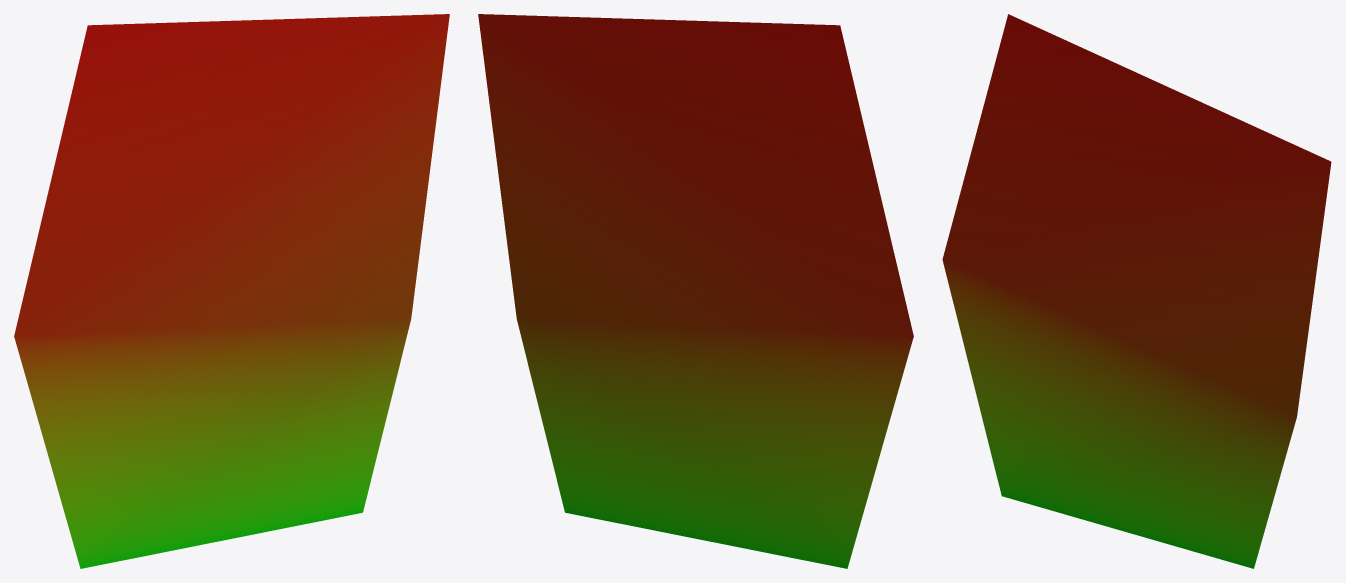
The model's file is ueyoebmia_Var1_LOD3.fbx.
3 renders of one model, left to right at view 1: azimuth 30°, elevation 25°; view 2: azimuth 150°, elevation 25°; view 3: azimuth 330°, elevation 25°, orthographic. The views are drawn at different scales.
Parts seen in each view (by area): view 1: _1f29_Var1_LOD3; view 2: _1f29_Var1_LOD3; view 3: _1f29_Var1_LOD3.
Boxes of the visible parts, x1=… form: _1f29_Var1_LOD3: x1=14, y1=14, x2=449, y2=568; _1f29_Var1_LOD3: x1=478, y1=14, x2=913, y2=568; _1f29_Var1_LOD3: x1=942, y1=14, x2=1331, y2=568.
Bounding box in the file's own units: 15.67 × 19.06 × 7.15e-07.
